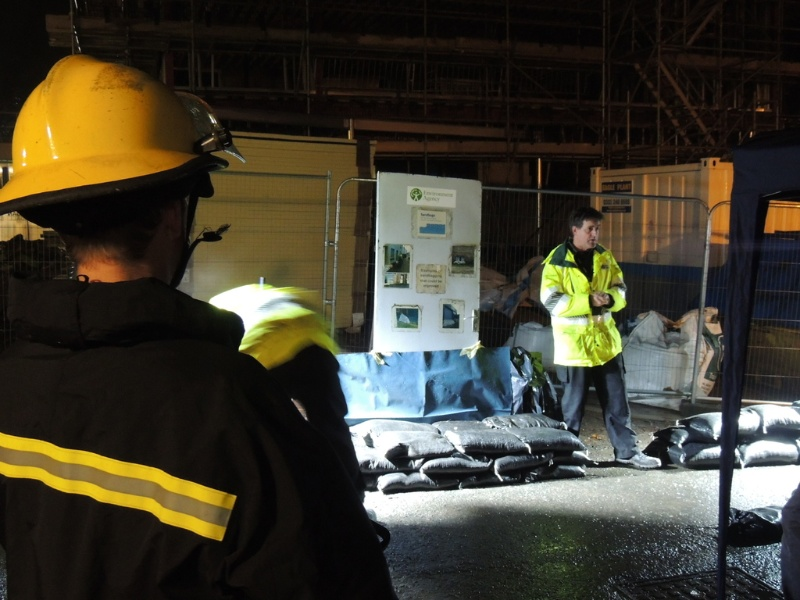helmet: (7, 54, 210, 199)
jacket: (13, 285, 267, 600), (544, 246, 628, 366)
